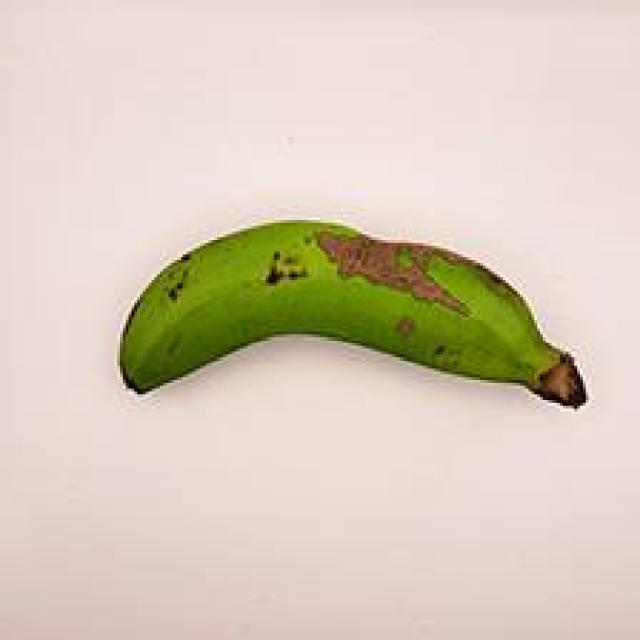Raw: (106, 177, 594, 477)
